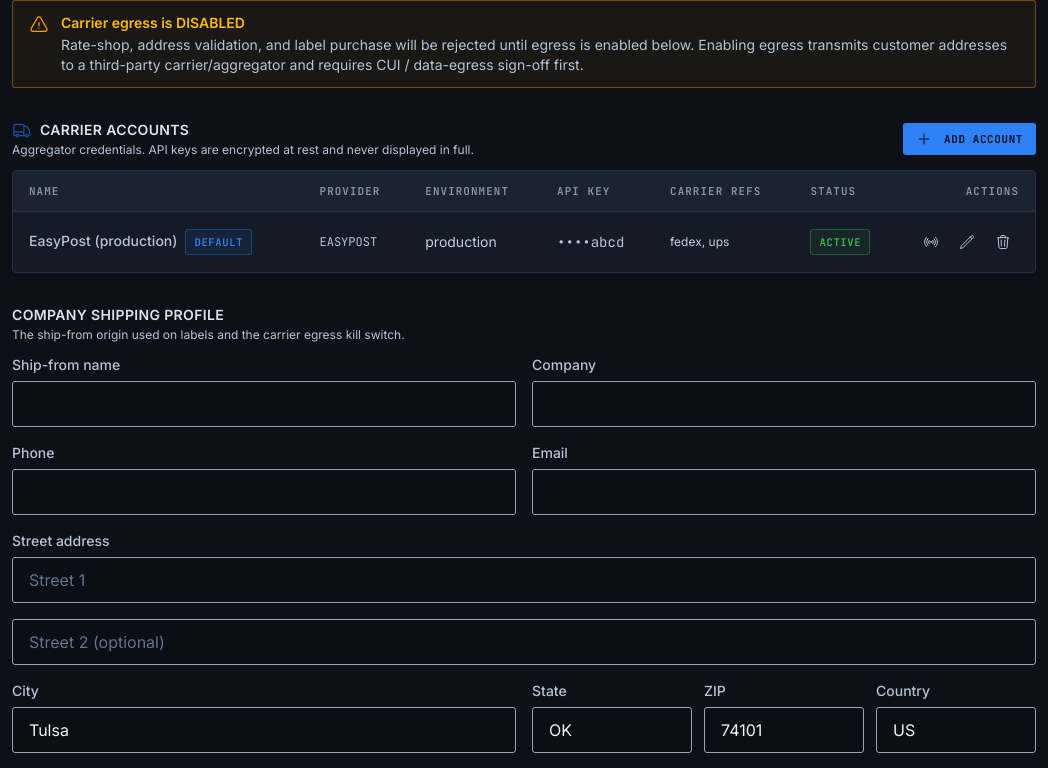
CarrierIntegrationsTab — test connection › shows an error toast when the connection test request rejects
Expected: the text "EasyPost (production)" is shown, x1=29 y1=232 x2=177 y2=249
Click the button titled "Test connection": point(931, 242) x1=915 y1=226 x2=947 y2=258
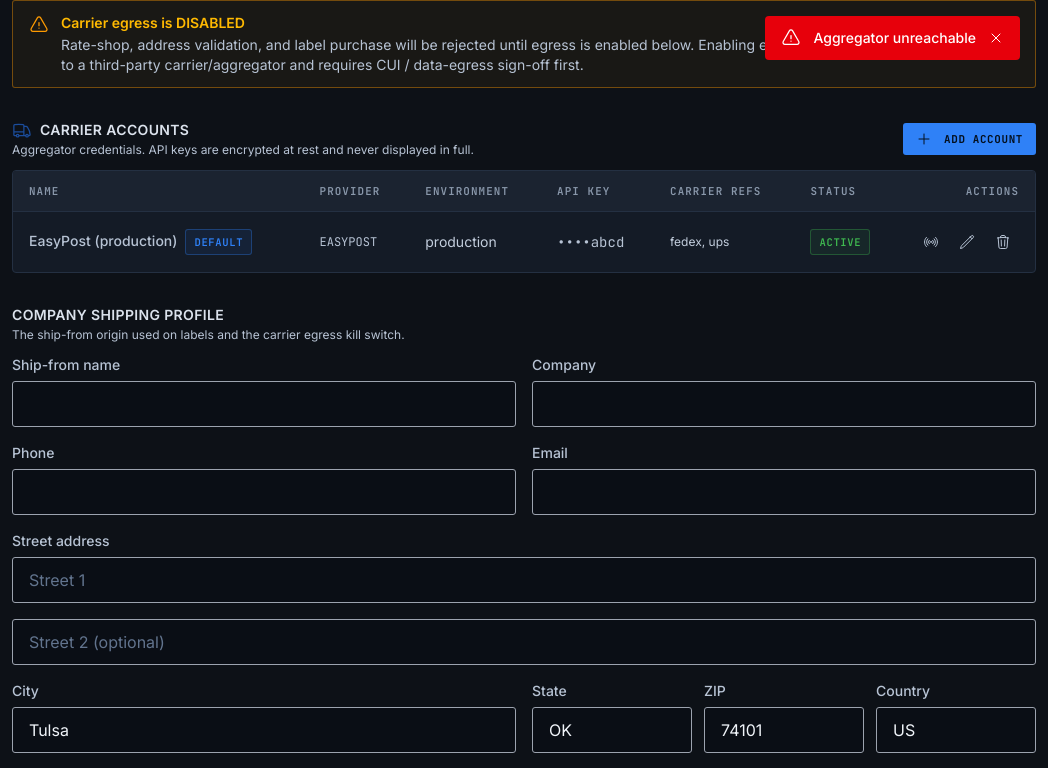
Expected: the text "Aggregator unreachable" is shown, x1=813 y1=28 x2=976 y2=48
